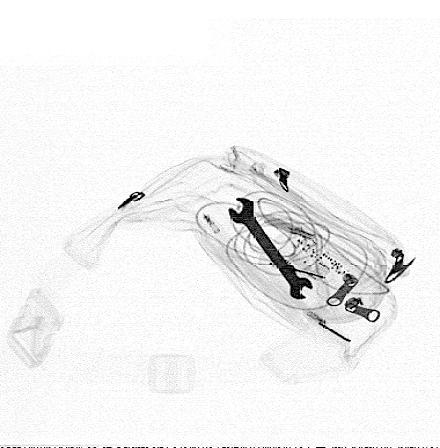Wrench: (227, 199, 315, 301)
